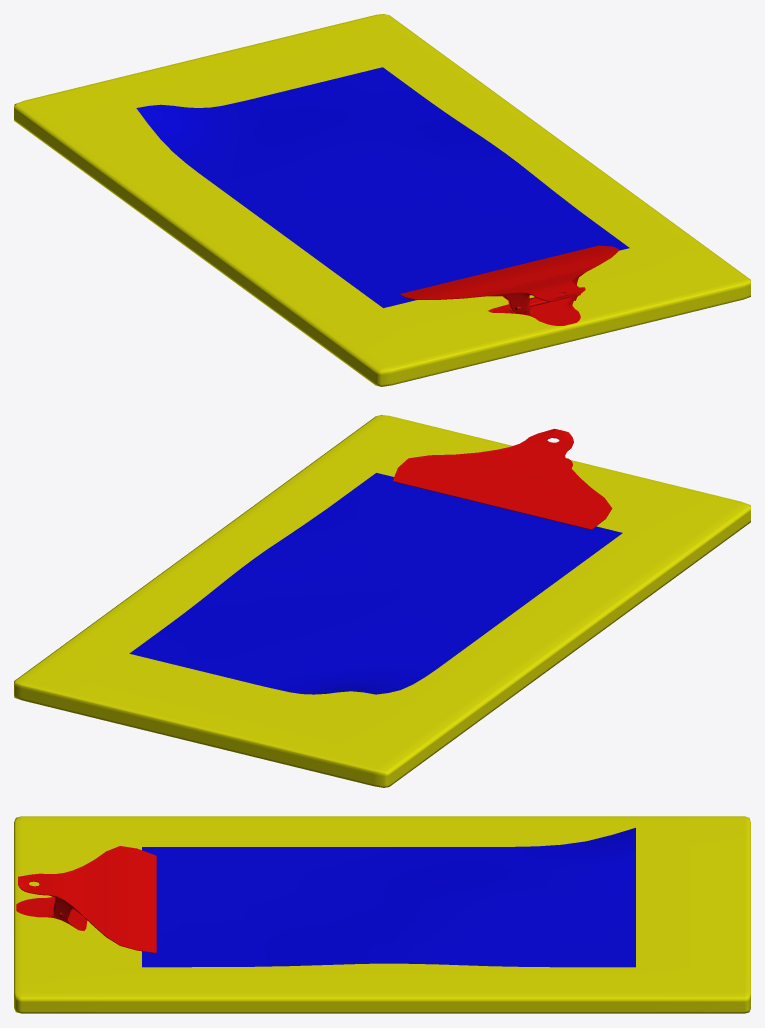
File: Clipboard.fbx
3 renders of one model, top to bottom at view 1: azimuth 30°, elevation 25°; view 2: azimuth 150°, elevation 25°; view 3: azimuth 270°, elevation 25°, orthographic.
Parts seen in each view (by area): view 1: Clipboard1; view 2: Clipboard1; view 3: Clipboard1.
Boxes of the visible parts, x1=… form: Clipboard1: x1=14, y1=14, x2=750, y2=386; Clipboard1: x1=14, y1=415, x2=750, y2=787; Clipboard1: x1=14, y1=816, x2=750, y2=1013.
Bounding box in the file's own units: 288 × 32.95 × 490.
